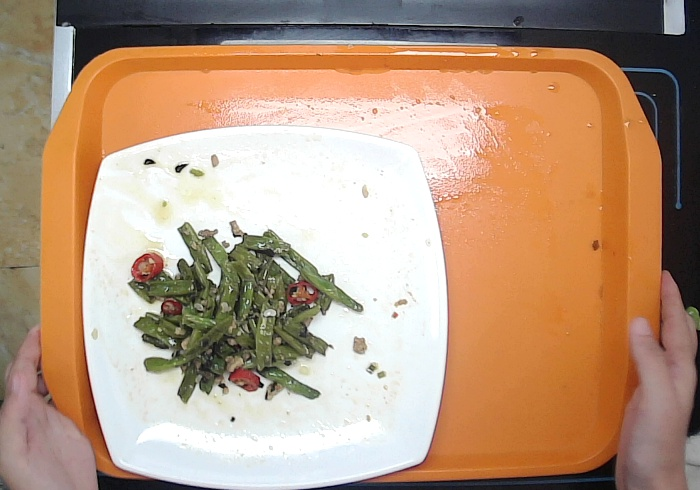ZNLD-Bai_Fang_Pan: (79, 122, 451, 490)
